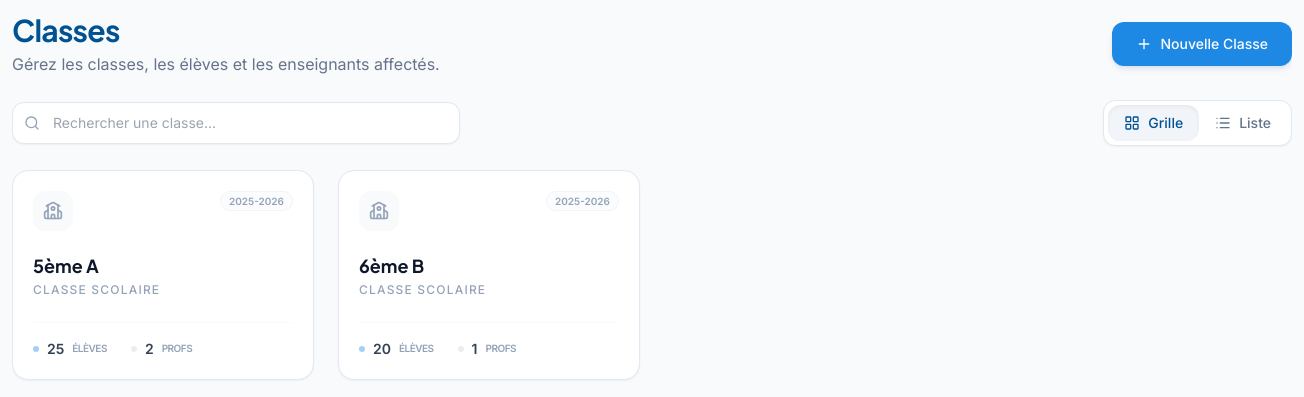
Test case: ClassListScreen › filters classes by search term
Check: the heading "5ème A" is shown, box [33,254,99,277]
In the field with placeholder "Rechercher une classe...": (236, 123) [12,102,460,144], type "5ème"
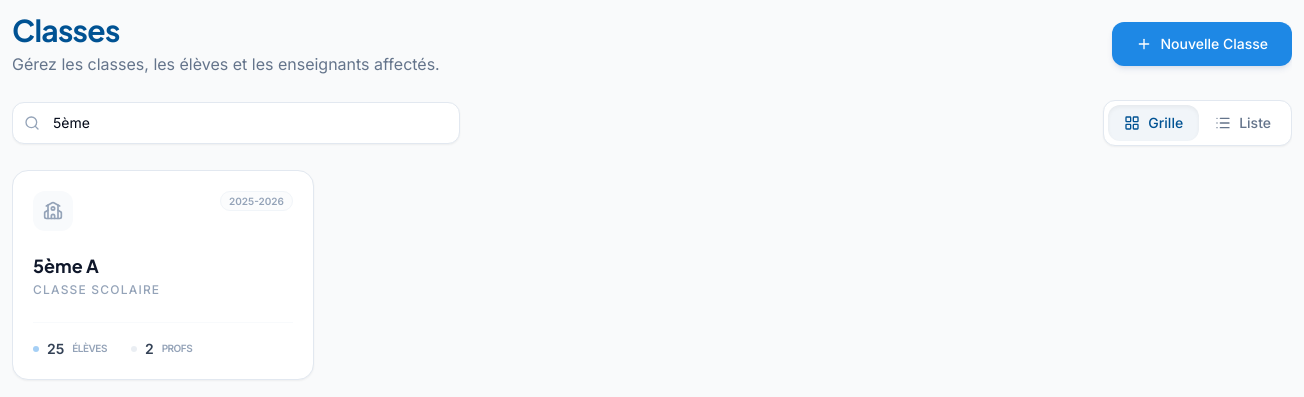
Check: the heading "5ème A" is shown, box [33,254,99,277]
Check: the link "6ème B" is gone
